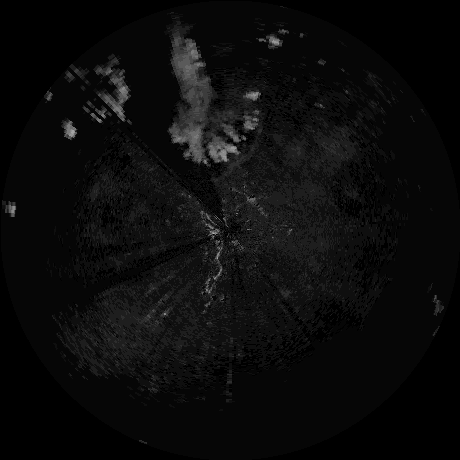frontgust: (209, 235, 225, 295)
